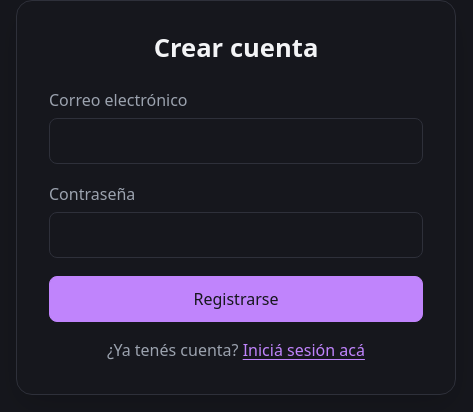
it: Register › bloquea el formulario y evita otro envío mientras se registra
Step 1. Type "demo@example.com" into the field labelled "Correo electrónico" → (236, 141), box left=49, top=118, right=423, bottom=164
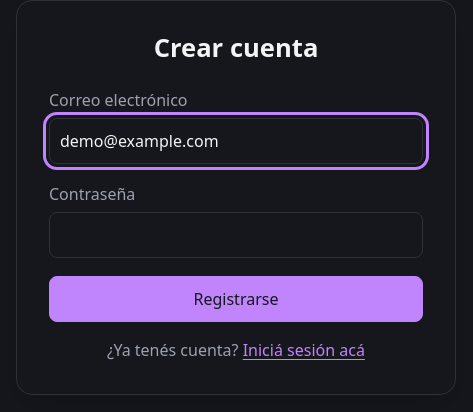
Step 2. Type "test-password" into the password field labelled "Contraseña" → (236, 235), box left=49, top=212, right=423, bottom=258
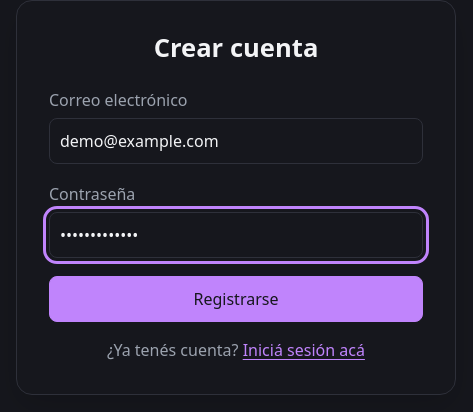
Step 3. Click the button "Registrarse" → (236, 299), box left=49, top=276, right=423, bottom=322
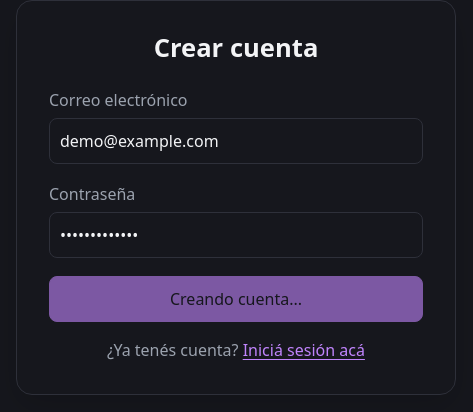
Expected: the field labelled "Correo electrónico" is disabled, left=49, top=118, right=423, bottom=164
Expected: the button "Creando cuenta..." is disabled
Step 4. Click the button → (236, 299), box left=49, top=276, right=423, bottom=322
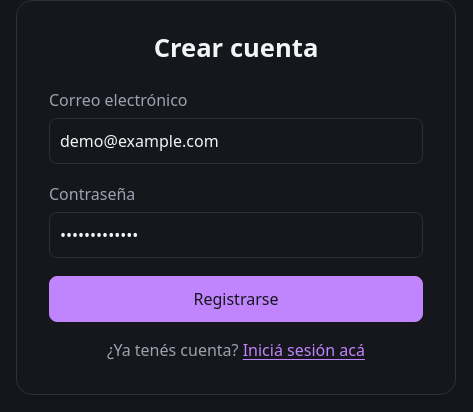
Expected: the button "Registrarse" is enabled, left=49, top=276, right=423, bottom=322
